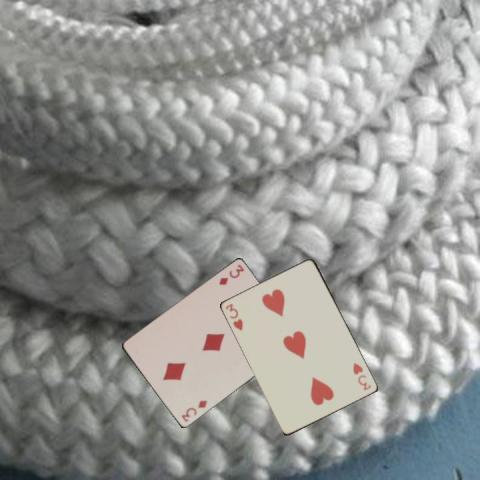3d: (178, 398, 209, 424), (216, 262, 245, 287)
3h: (350, 360, 373, 392), (222, 301, 244, 332)
